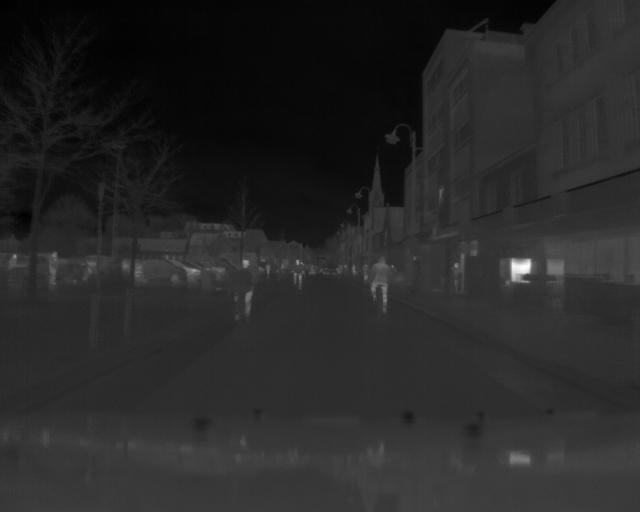car: (133, 255, 186, 283)
person: (371, 253, 394, 313), (233, 258, 254, 308), (452, 257, 465, 295), (46, 251, 59, 287), (292, 256, 305, 291)
